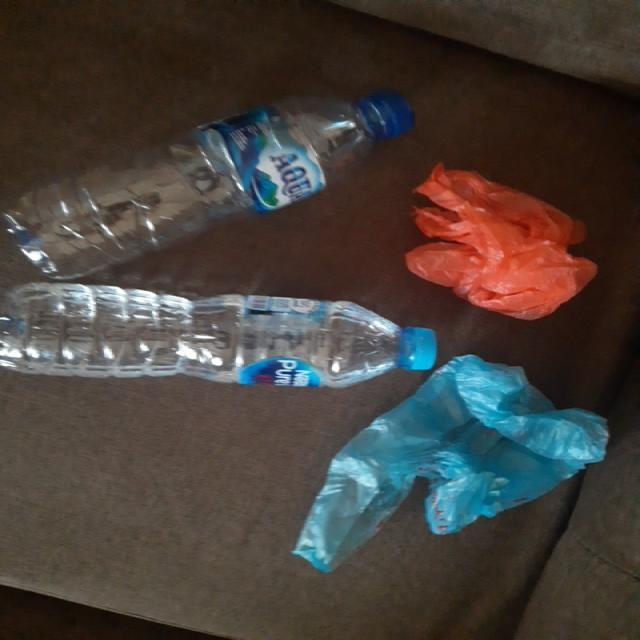Single-layer Plastic: (294, 355, 608, 572), (405, 164, 596, 319)
